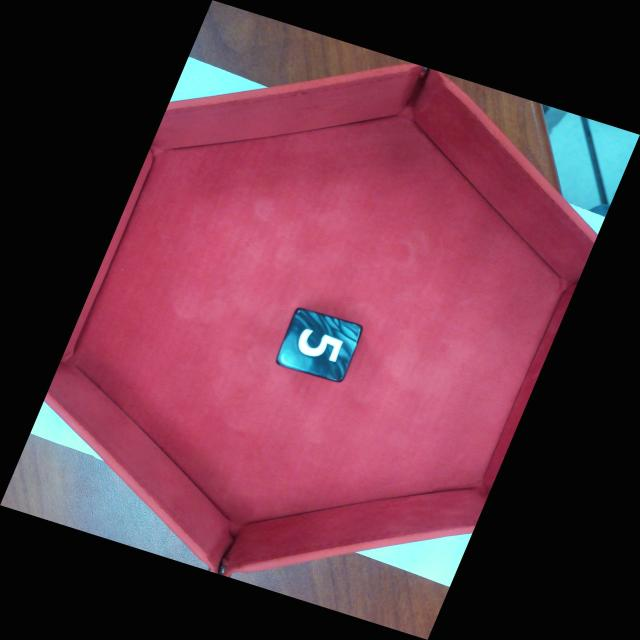dice: (272, 305, 367, 386)
